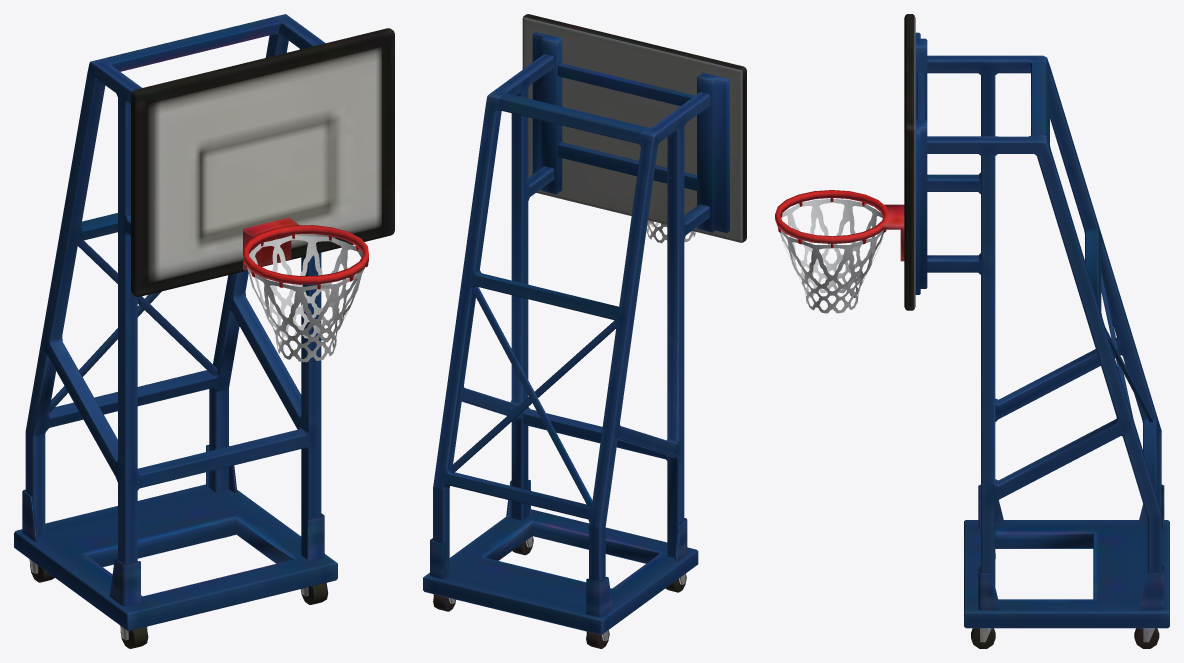
3 renders of one model, left to right at view 1: azimuth 30°, elevation 25°; view 2: azimuth 150°, elevation 25°; view 3: azimuth 270°, elevation 25°, orthographic. The views are drawn at different scales.
Size of the model in its own units: 13.64 by 29.71 by 19.83.
Materials: 1 (1 with a texture image).
